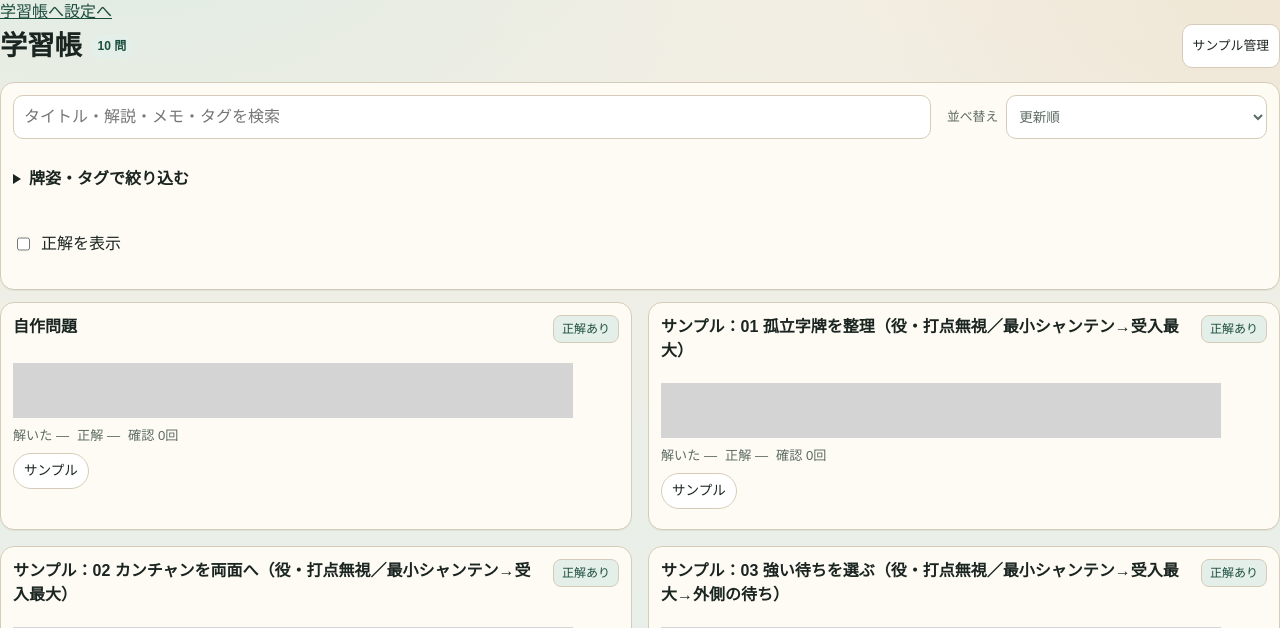
Test case: fills only missing catalog items while preserving edited samples and custom problems with the sample tag
Click the button "サンプル管理" at (1231, 46), box [1182,24,1279,68]
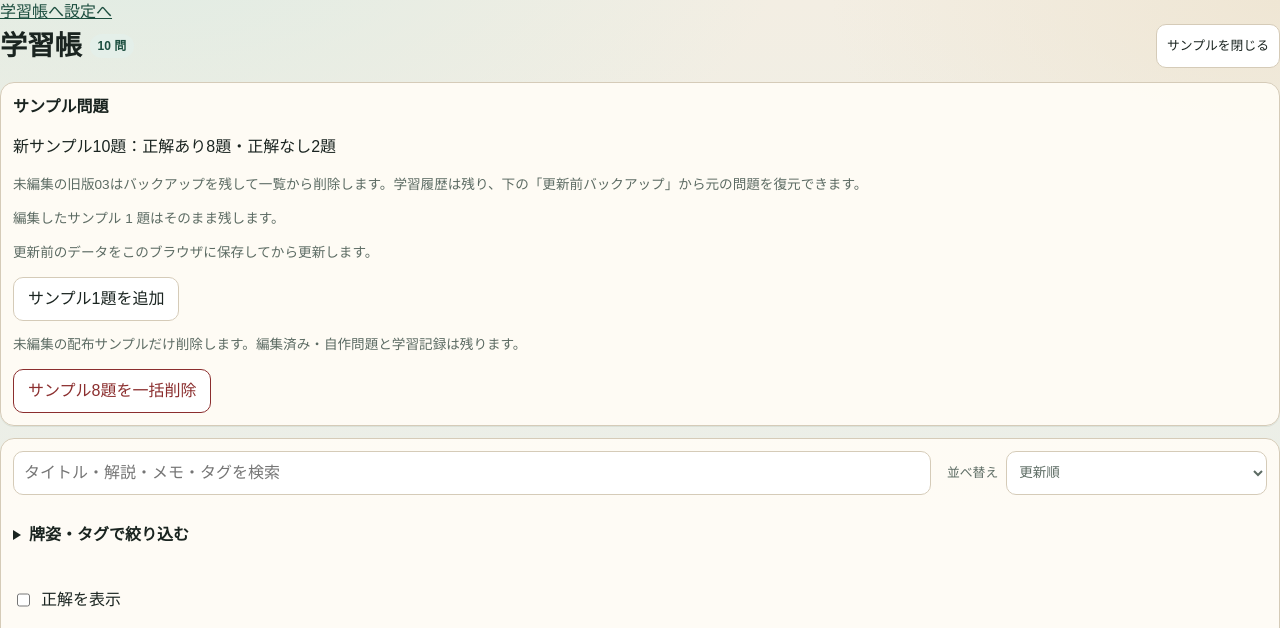
expect the text "編集したサンプル 1 題はそのまま残します" is shown: met, box [13,211,285,226]
Click the button "サンプル1題を追加" at (96, 299), box [13,277,179,321]
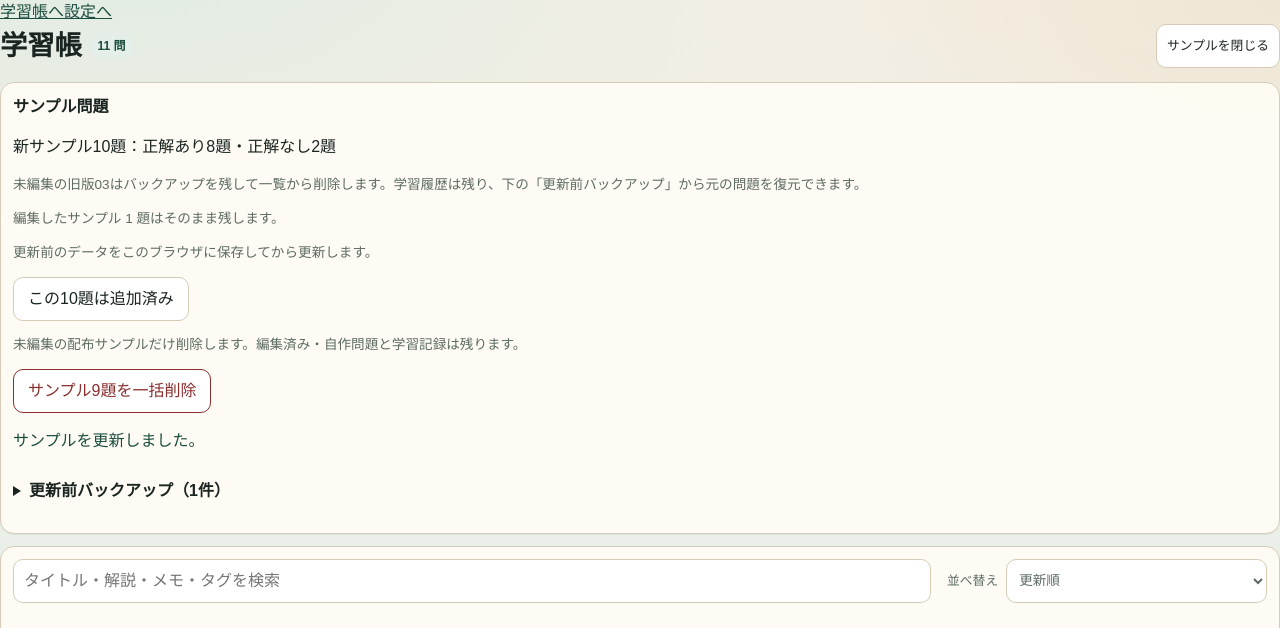
expect the button "この10題は追加済み" is disabled: met, box [13,277,189,321]
